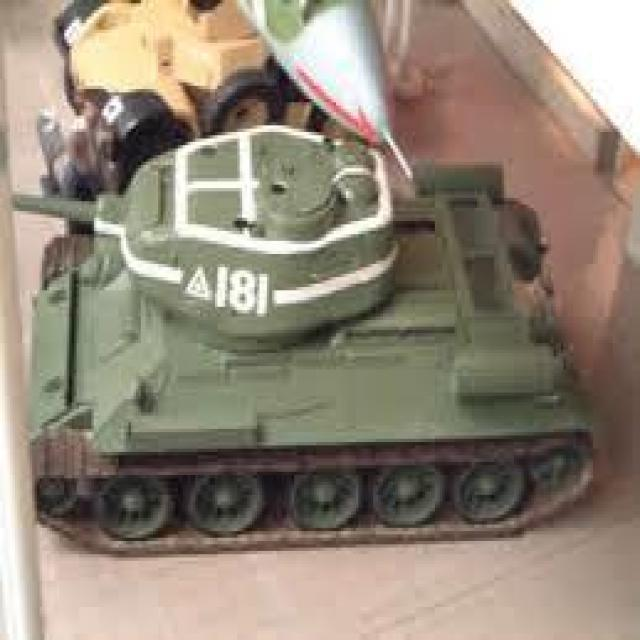MIL_MBT: (19, 142, 584, 554)
